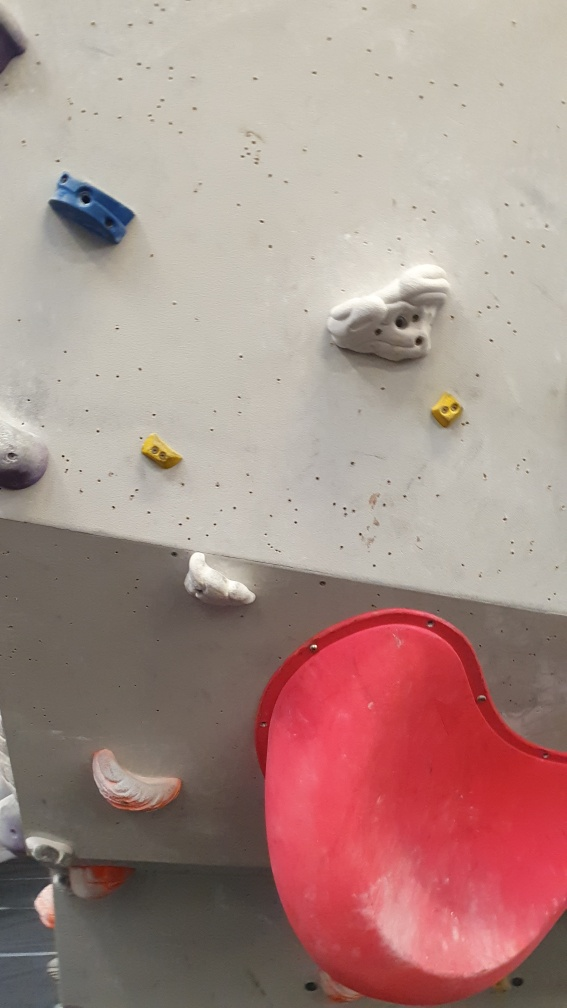Crimp: (134, 426, 198, 476)
Jug: (325, 260, 455, 365), (87, 745, 186, 820), (180, 549, 267, 619)
Pinch: (46, 169, 140, 249), (425, 381, 471, 436)
Sloper: (1, 411, 56, 491)
